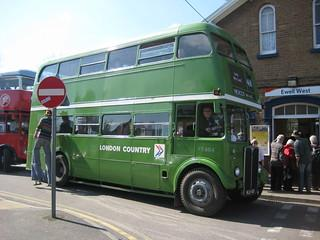bus: (28, 25, 265, 213)
